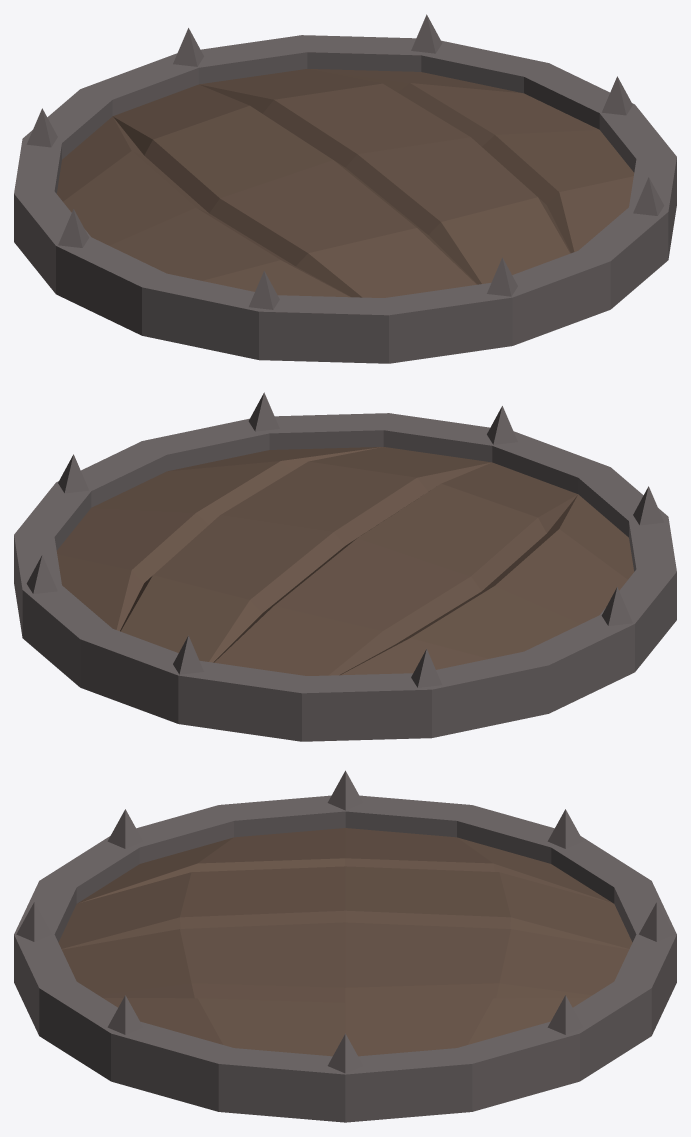
File: shield_round.fbx
3 renders of one model, top to bottom at view 1: azimuth 30°, elevation 25°; view 2: azimuth 150°, elevation 25°; view 3: azimuth 270°, elevation 25°, orthographic.
Parts seen in each view (by area): view 1: ShieldRound; view 2: ShieldRound; view 3: ShieldRound.
Boxes of the visible parts, bbox=[...] form: ShieldRound: bbox=[14, 14, 676, 363]; ShieldRound: bbox=[14, 392, 676, 741]; ShieldRound: bbox=[14, 770, 676, 1122].
Size of the model in its own units: 150 by 20.13 by 150.
